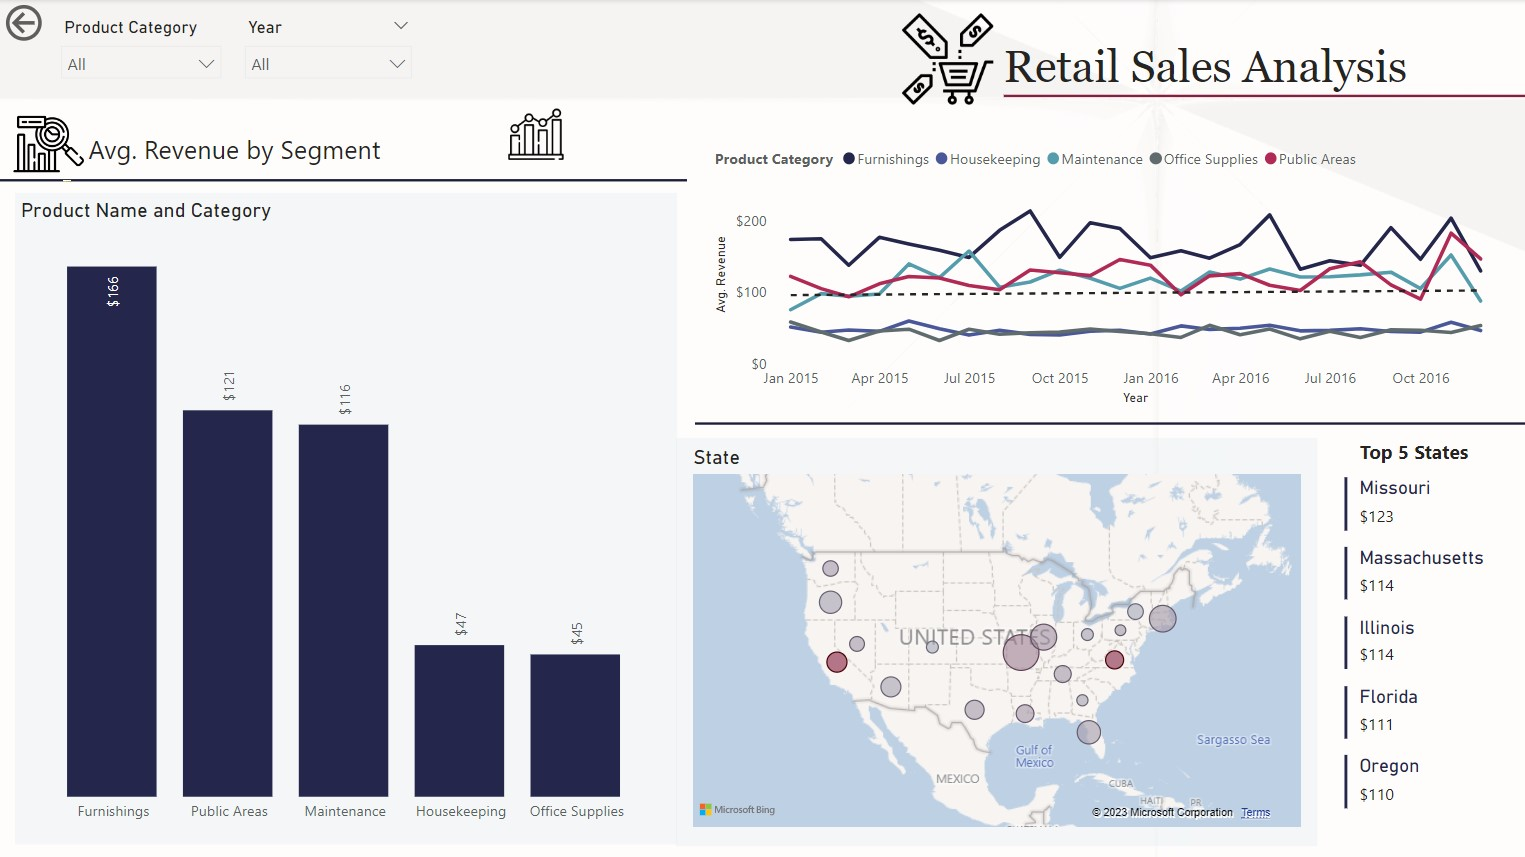

The dashboard page shown, as its layout file describes it:
{"tool":"powerbi","page":{"name":"Page 2","canvas":[1280,720],"ordinal":1},"visuals":[{"type":"shape","box":[12.6,162.2,555,546.7],"z":0},{"type":"shape","box":[567.5,367.5,537.5,342.5],"z":1000},{"type":"map","title":"State","fields":{"Category":["Retail.Property State"],"Size":["Sum(Retail.Revenue)"]},"box":[576.2,373.8,518.8,325],"z":2000},{"type":"multiRowCard","fields":{"Values":["Retail.Property State","Calculations.Avg_Revenue"]},"box":[1122.5,396.2,130,323.8],"z":3000},{"type":"actionButton","box":[0,0,100,40],"z":4000},{"type":"shape","box":[0,143.1,576.2,16.9],"z":5000},{"type":"clusteredColumnChart","title":"Product Name and Category","fields":{"Category":["Retail.Product Category","Retail.Product Name"],"Y":["Calculations.Avg_Revenue"]},"box":[12.5,166.2,553.8,532.5],"z":6000},{"type":"textbox","box":[68.8,106.2,327.5,45],"z":7000},{"type":"shape","box":[582.5,347.5,697.5,16.2],"z":8000},{"type":"textbox","box":[1135,363.8,145,32.5],"z":9000},{"type":"image","box":[412.5,78.8,72.5,70],"z":10000},{"type":"image","box":[0,87.5,81.2,68.8],"z":11000},{"type":"textbox","box":[836.2,30,371.2,55],"z":12000},{"type":"shape","box":[841.2,71.2,438.8,20],"z":13000},{"type":"lineChart","title":"Order Quantity by Category","fields":{"Y":["Calculations.Avg_Revenue"],"Category":["Retail.Order Date.Variation.Date Hierarchy.Year","Retail.Order Date.Variation.Date Hierarchy.Quarter","Retail.Order Date.Variation.Date Hierarchy.Month"],"Series":["Retail.Product Category"]},"box":[593.8,113.8,676.2,231.2],"z":14000},{"type":"image","box":[738.8,0,111.2,106.2],"z":15000},{"type":"slicer","fields":{"Values":["Retail.Product Category"]},"box":[40.7,10.5,154.7,60.5],"z":16000},{"type":"slicer","fields":{"Values":["Retail.Order Date.Variation.Date Hierarchy.Year"]},"box":[195.3,10.5,160.5,60.5],"z":17000}]}

Visuals, with their boxes in screenshot pixels (x1, y1, x2, y2), scaled from the page's 1280x720 canvas onto the 1525x857 screenshot:
shape: <region>15, 193, 676, 844</region>
shape: <region>676, 437, 1317, 845</region>
"State" map: <region>686, 445, 1305, 832</region>
multiRowCard - Retail.Property State x Calculations.Avg_Revenue: <region>1337, 472, 1492, 856</region>
actionButton: <region>0, 0, 119, 48</region>
shape: <region>0, 170, 686, 190</region>
"Product Name and Category" clusteredColumnChart: <region>15, 198, 675, 832</region>
textbox: <region>82, 126, 472, 180</region>
shape: <region>694, 414, 1524, 433</region>
textbox: <region>1352, 433, 1524, 472</region>
image: <region>491, 94, 578, 177</region>
image: <region>0, 104, 97, 186</region>
textbox: <region>996, 36, 1439, 101</region>
shape: <region>1002, 85, 1524, 109</region>
"Order Quantity by Category" lineChart: <region>707, 135, 1513, 411</region>
image: <region>880, 0, 1013, 126</region>
slicer - Retail.Product Category: <region>48, 12, 233, 85</region>
slicer - Retail.Order Date.Variation.Date Hierarchy.Year: <region>233, 12, 424, 85</region>
